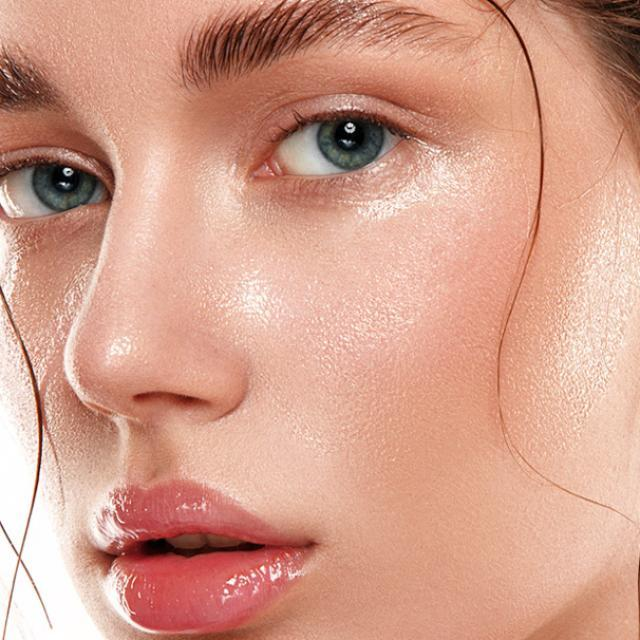oily: (212, 214, 462, 492), (8, 243, 86, 326)
